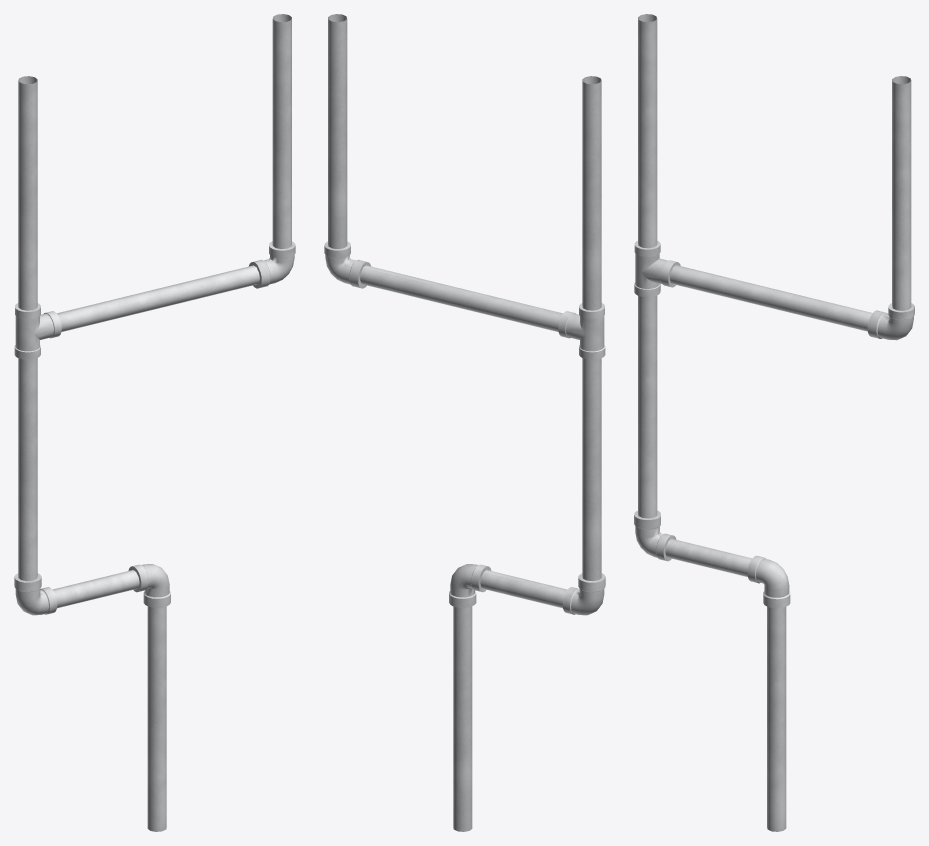
The model's file is pipe_setup1.fbx.
The picture shows the model from 3 angles, left to right: view 1: azimuth 30°, elevation 25°; view 2: azimuth 150°, elevation 25°; view 3: azimuth 330°, elevation 25°; orthographic projection.
Parts seen in each view (by area): view 1: polySurface3; view 2: polySurface3; view 3: polySurface3.
Boxes of the visible parts, box(x1,y1,x2,y2) form: polySurface3: box(14, 14, 295, 831); polySurface3: box(324, 14, 605, 831); polySurface3: box(634, 14, 914, 831).
Size of the model in its own units: 14.82 by 39.74 by 1.26.
3 materials, 3 textured.
